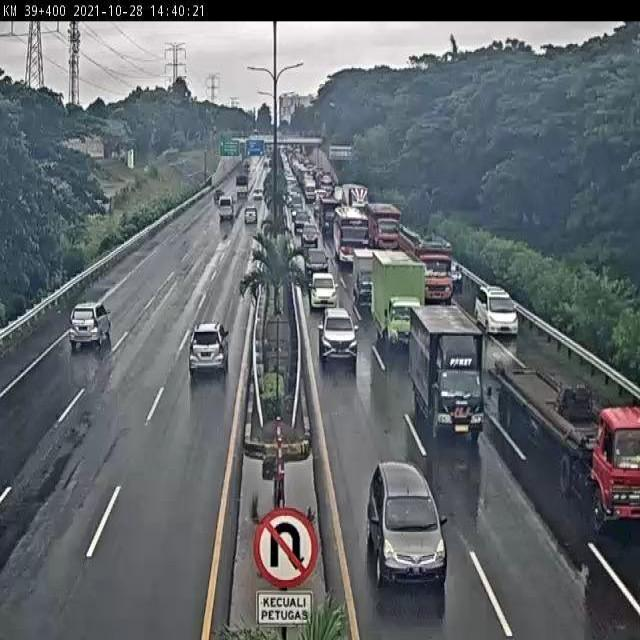big bus: (331, 207, 365, 260)
big truck: (496, 360, 640, 532)
car: (367, 460, 448, 584), (316, 301, 355, 359), (69, 301, 113, 351), (475, 286, 518, 334), (188, 323, 230, 369), (308, 267, 337, 305), (302, 242, 328, 270)
mid truck: (397, 223, 449, 296)
small truck: (409, 307, 486, 436), (369, 249, 420, 339), (349, 244, 376, 303)
